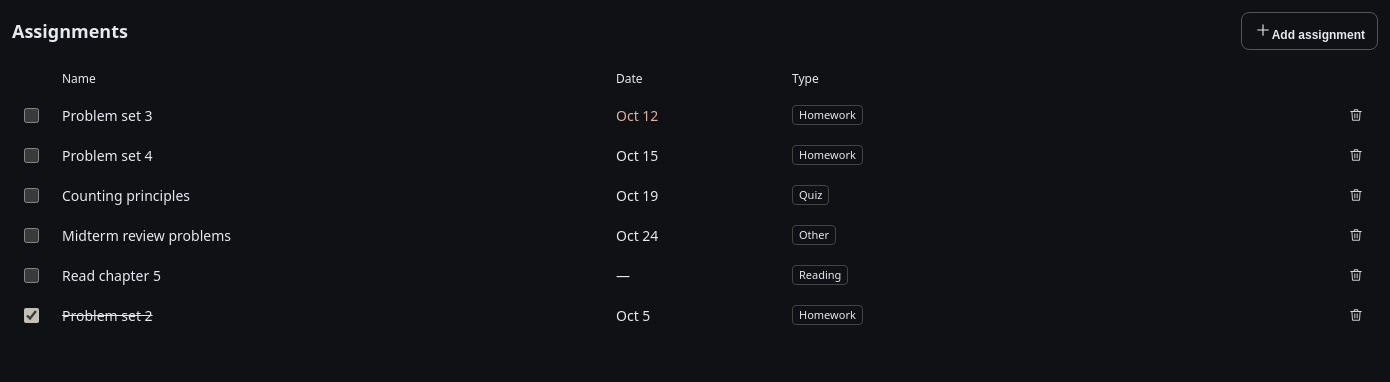
Test case: opens the type list on the first click and applies choices directly without editing other fields
Click the button with aria-label "Edit type for Problem set 3".
click(827, 115)  # box 788,99 -> 1326,131
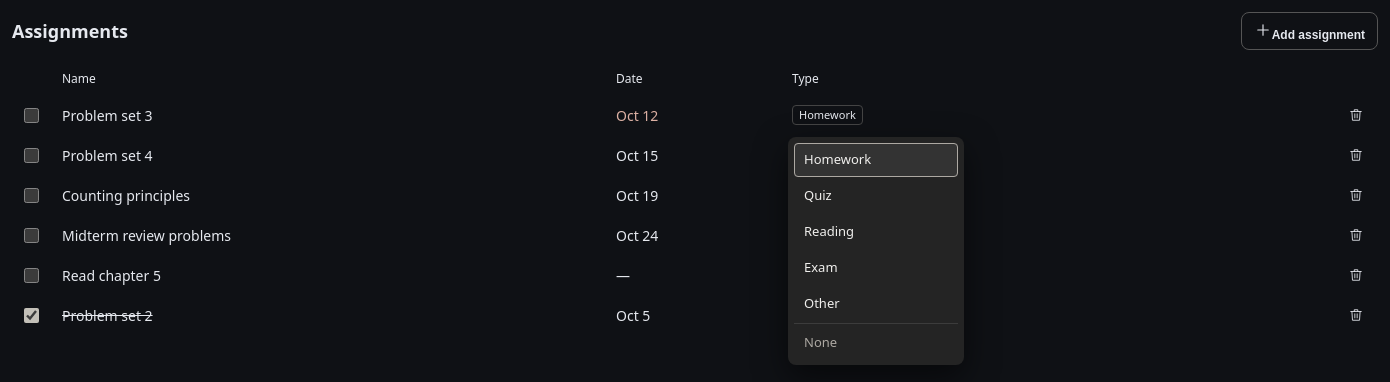
Now the list named "Assignment type" is shown, box 788,137 -> 964,364
Click the option "Quiz".
click(876, 196)  # box 794,179 -> 958,213
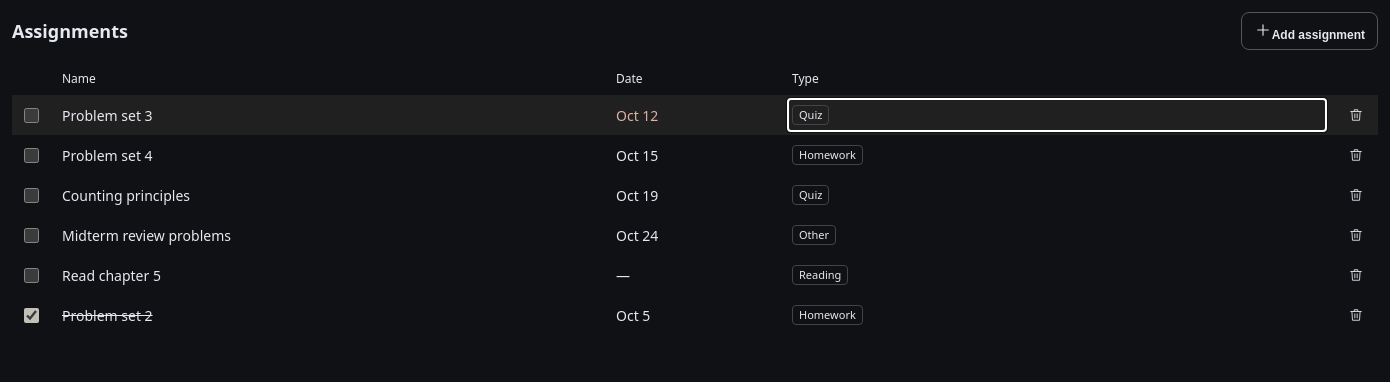
Now the button with aria-label "Edit type for Problem set 3" reads "Quiz"
Now the list is gone
Click the button with aria-label "Edit type for Problem set 3".
click(811, 115)  # box 788,99 -> 1326,131
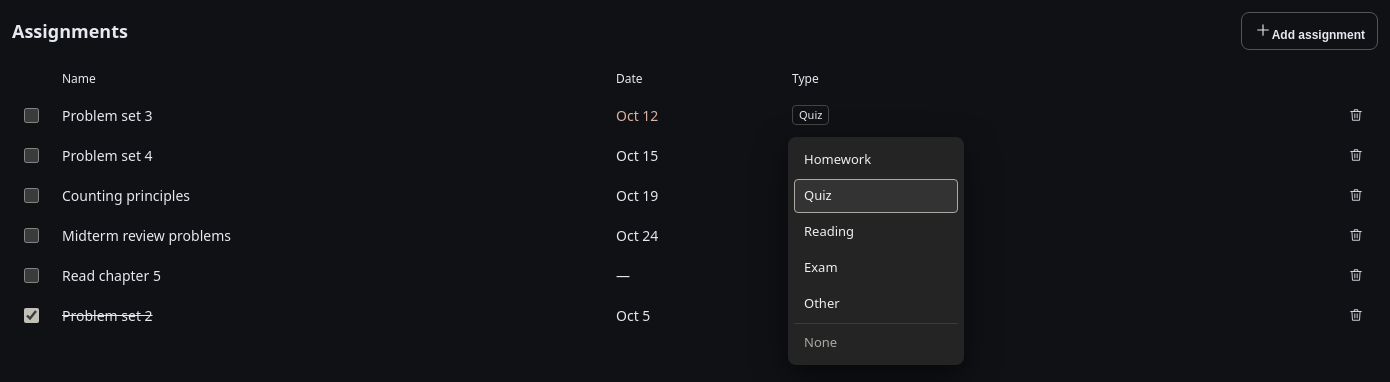
Click the option "None".
click(876, 341)  # box 794,323 -> 958,358
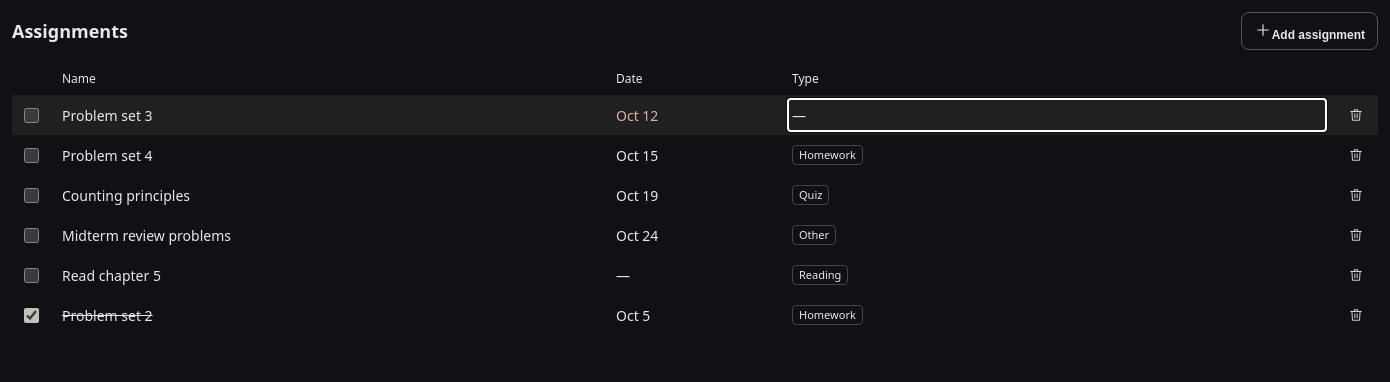
Now the button named "Edit type for Problem set 3" reads "—", box 788,99 -> 1326,131
